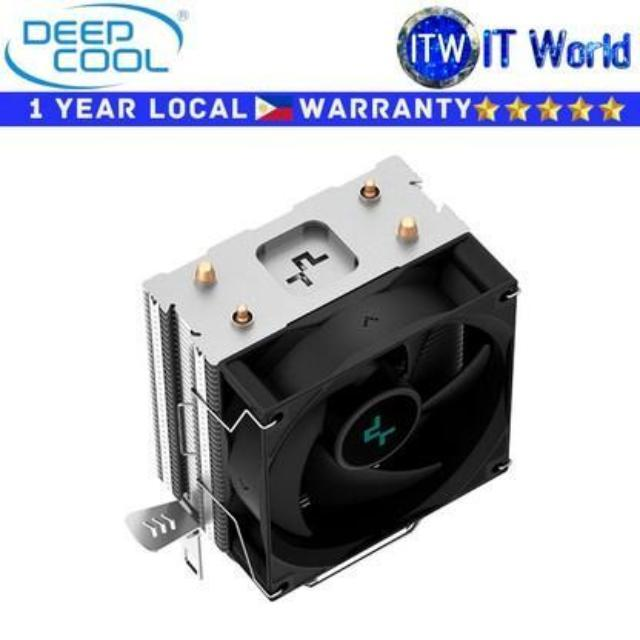CPU_Fan: (129, 153, 523, 601)
